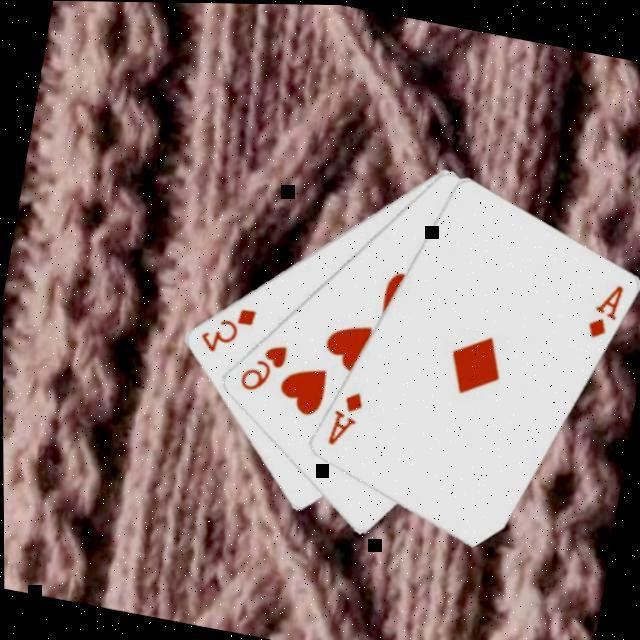3D: (192, 296, 258, 362)
9H: (230, 334, 288, 399)
AD: (578, 276, 624, 344), (320, 384, 364, 452)
